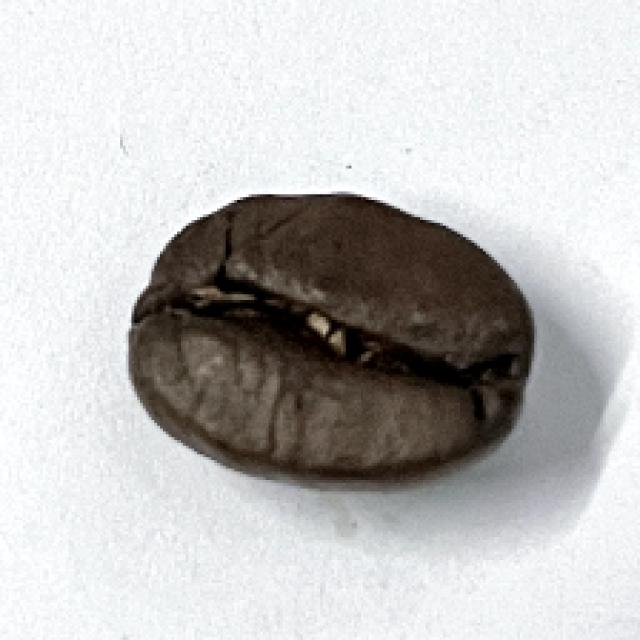bean: (120, 188, 537, 486)
